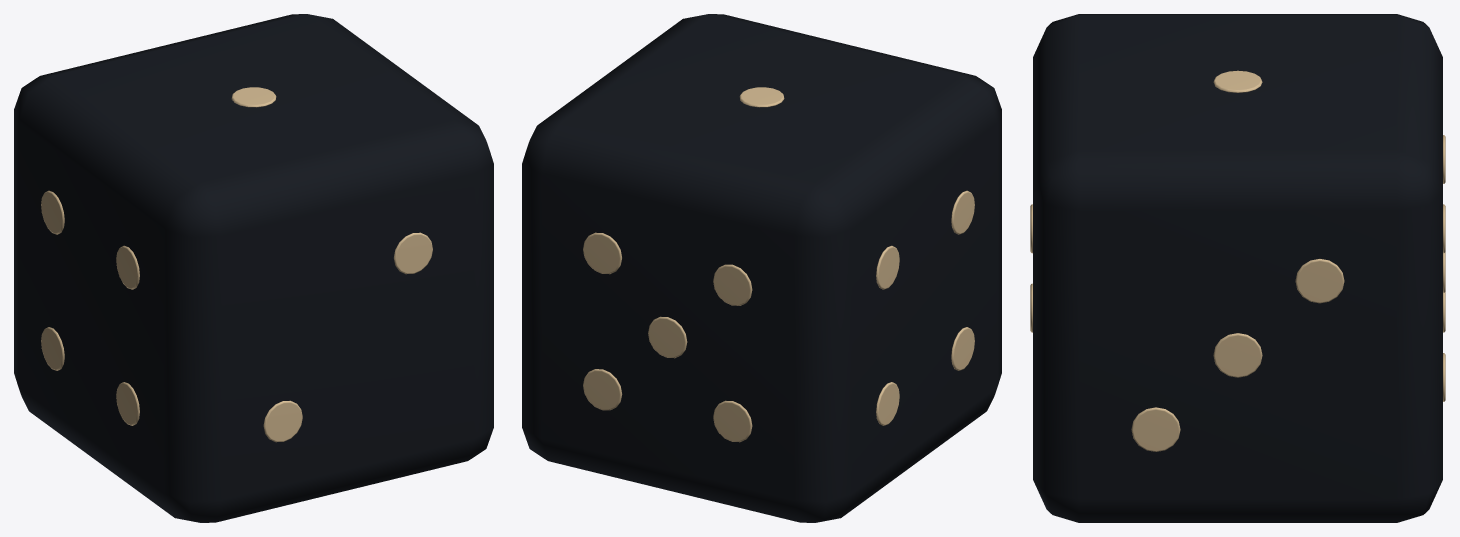
Rendered from casino-dice.glb.
3 views of the same model, side by side, from view 1: azimuth 30°, elevation 25°; view 2: azimuth 150°, elevation 25°; view 3: azimuth 270°, elevation 25° (orthographic). The views are drawn at different scales.
Visible parts, largest first — view 1: DiceBody, DicePip.007, DicePip.008, DicePip.018, DicePip.020, DicePip.017, DicePip.019, DicePip; view 2: DiceBody, DicePip.012, DicePip.013, DicePip.009, DicePip.011, DicePip.010, DicePip.017, DicePip.019, DicePip.020, DicePip.018, DicePip; view 3: DiceBody, DicePip.014, DicePip.016, DicePip.015, DicePip.
Part boxes in pixels (x1,y1,x2,y2): DiceBody: (14,14,493,522); DicePip.007: (263,400,302,442); DicePip.008: (394,232,432,274); DicePip.018: (41,190,64,234); DicePip.020: (41,327,64,370); DicePip.017: (116,382,139,425); DicePip.019: (116,245,139,289); DicePip: (231,87,276,107); DiceBody: (522,14,1001,522); DicePip.012: (583,369,622,410); DicePip.013: (648,316,687,358); DicePip.009: (713,400,752,442); DicePip.011: (713,264,752,305); DicePip.010: (583,232,621,274); DicePip.017: (951,327,974,370); DicePip.019: (951,190,974,234); DicePip.020: (876,382,899,425); DicePip.018: (876,245,899,289); DicePip: (739,87,784,107); DiceBody: (1033,14,1442,522); DicePip.014: (1131,407,1180,451); DicePip.016: (1295,259,1344,303); DicePip.015: (1213,333,1262,377); DicePip: (1213,70,1262,92).
Size of the model in its own units: 1.27 by 1.27 by 1.27.
